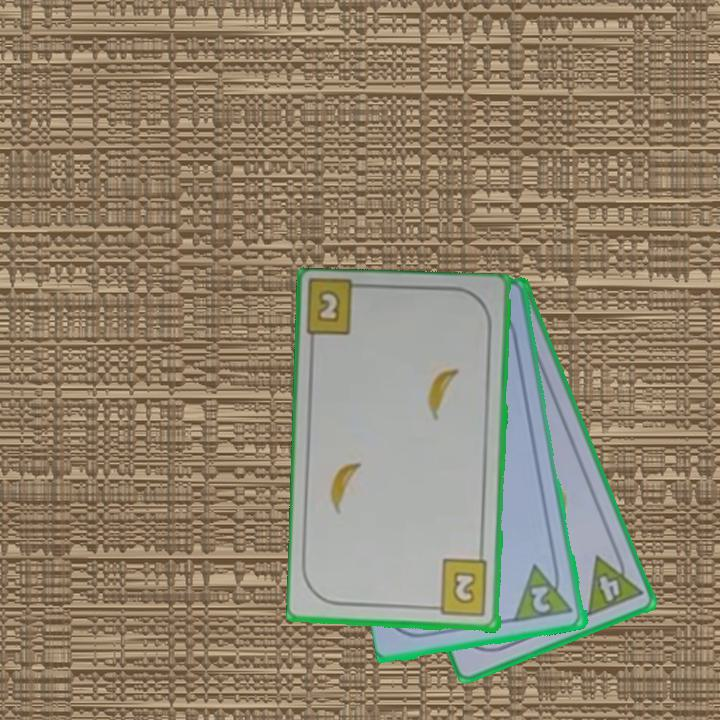2b: (428, 557, 490, 619), (314, 286, 343, 326)
2p: (527, 583, 554, 616)
4p: (583, 545, 646, 619)
